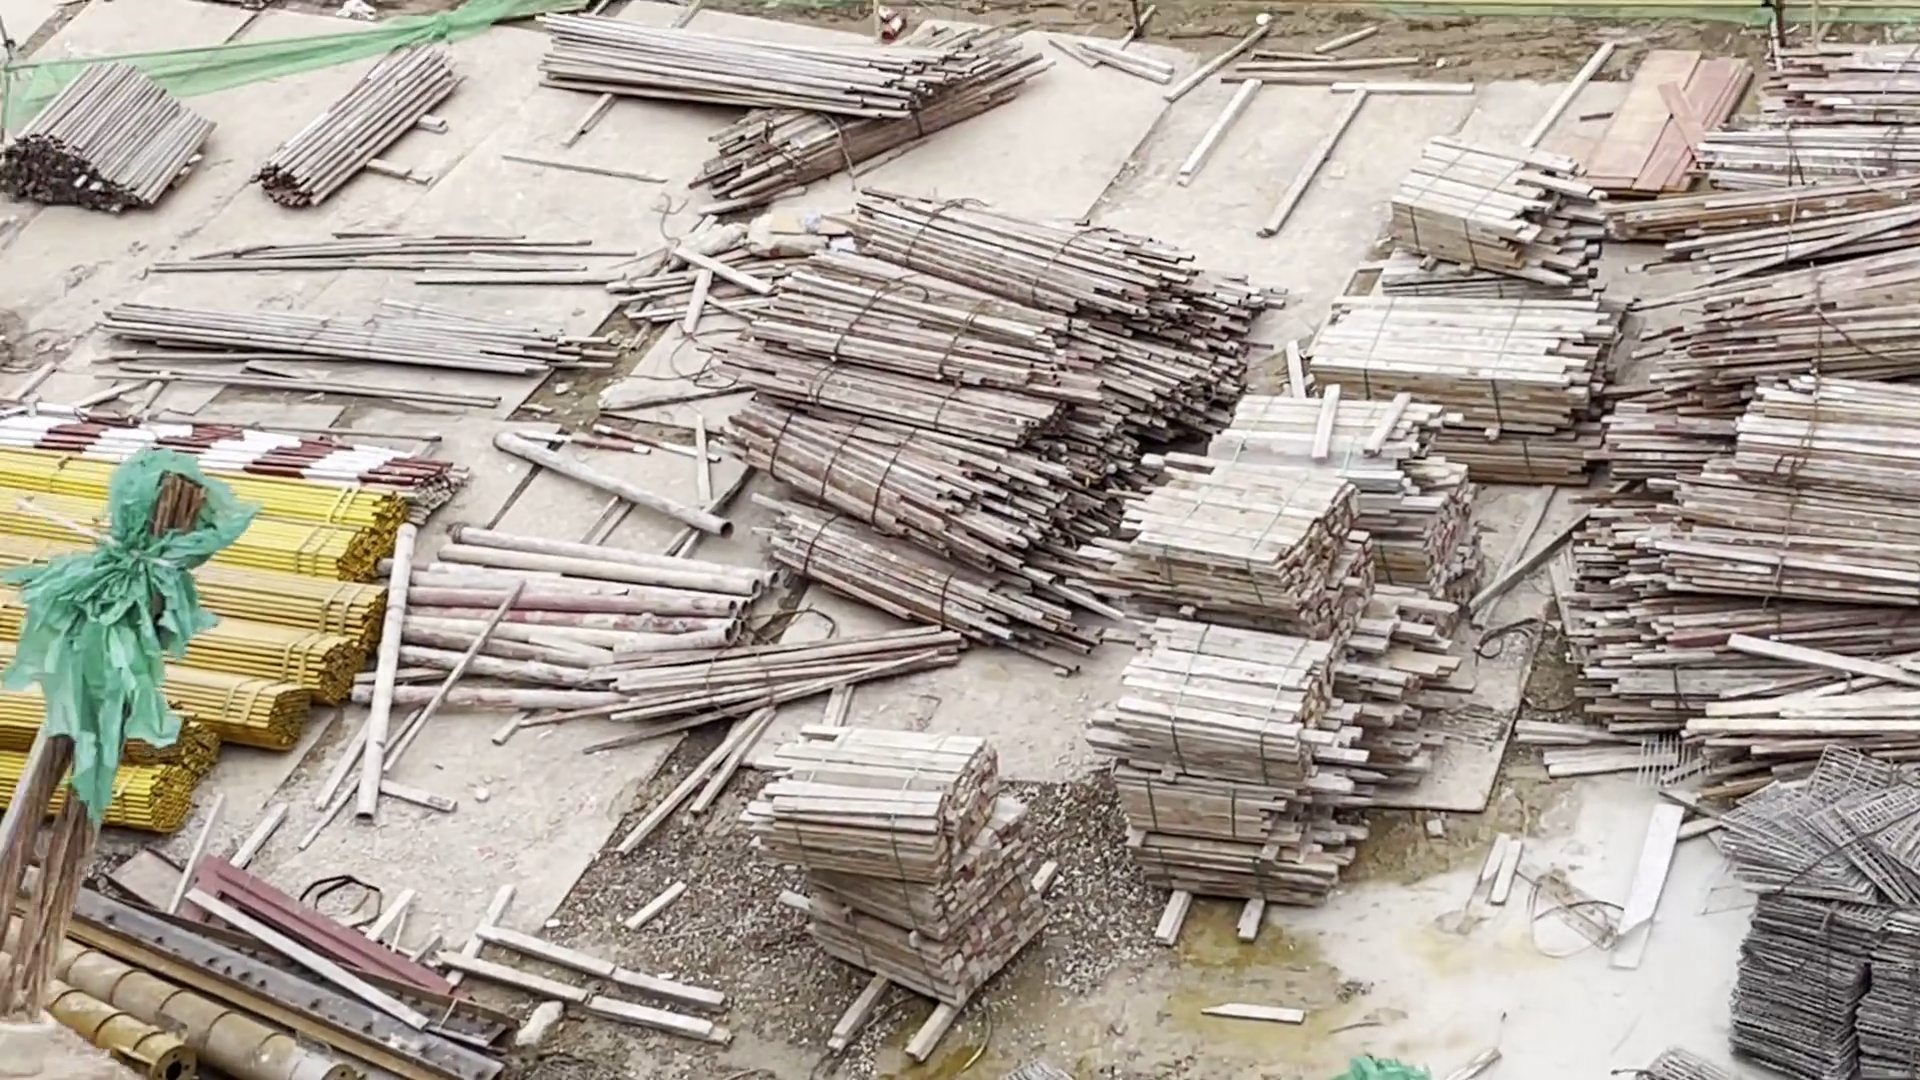board: (1586, 53, 1753, 189)
wood: (769, 196, 1258, 657), (1575, 378, 1917, 738), (526, 5, 1054, 204), (1658, 45, 1920, 378), (1105, 392, 1472, 626), (760, 723, 1050, 1007), (1097, 628, 1369, 919), (1320, 137, 1615, 398), (249, 45, 468, 211), (1, 55, 218, 223)
